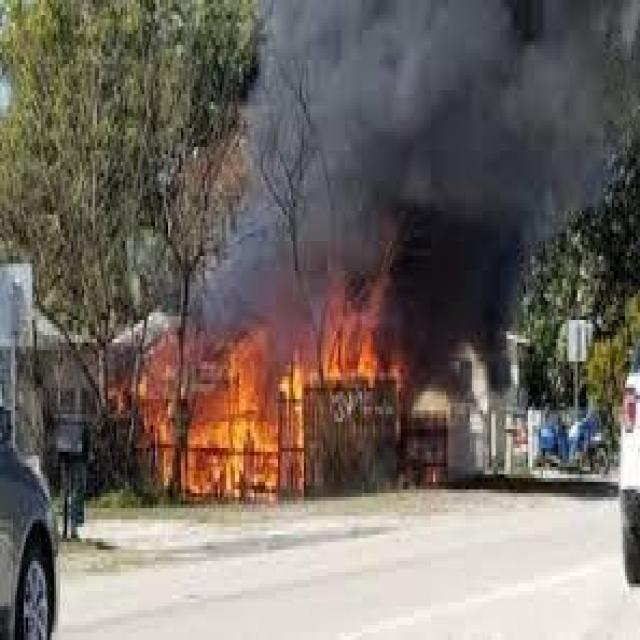fire: (122, 294, 413, 498)
